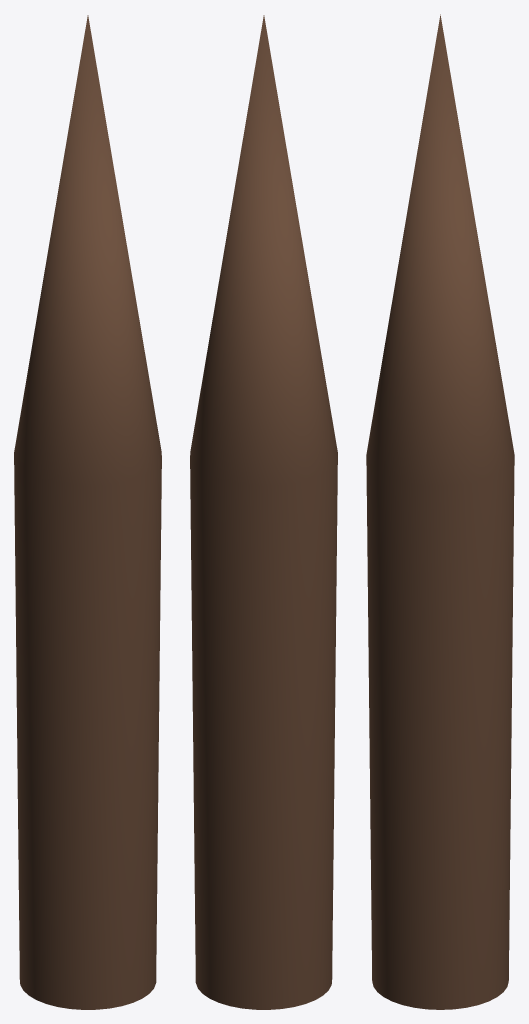
File: OneSpike.fbx
3 renders of one model, left to right at view 1: azimuth 30°, elevation 25°; view 2: azimuth 150°, elevation 25°; view 3: azimuth 270°, elevation 25°, orthographic.
Visible parts, largest first — view 1: Cone; view 2: Cone; view 3: Cone.
Boxes of the visible parts, left/top/right/bottom form: Cone: left=14, top=15, right=161, bottom=1009; Cone: left=190, top=15, right=337, bottom=1009; Cone: left=366, top=14, right=514, bottom=1009.
Size of the model in its own units: 33.11 by 238 by 33.11.
